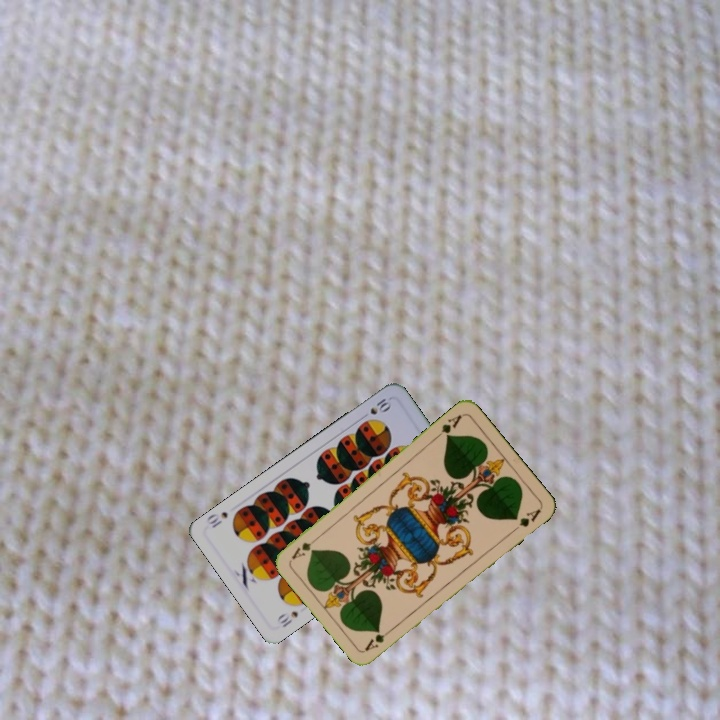GA: (361, 624, 396, 654), (431, 410, 464, 441)
S10: (357, 394, 394, 422), (273, 607, 301, 630)
